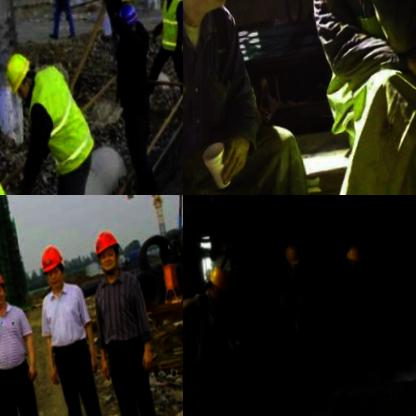helmet: (2, 50, 39, 110), (91, 231, 124, 285), (37, 247, 66, 300), (200, 265, 231, 308), (116, 2, 143, 45), (281, 241, 303, 280), (344, 245, 362, 275), (0, 269, 10, 317), (161, 0, 180, 7)
